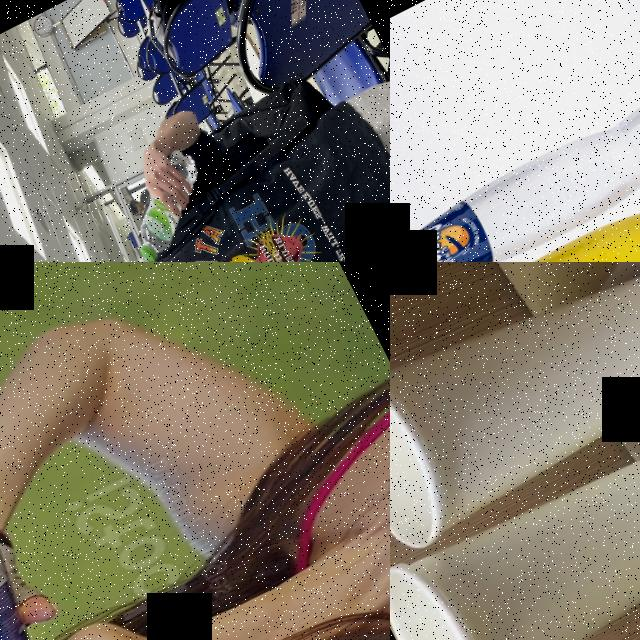bottle: (390, 53, 640, 262), (390, 136, 640, 262), (106, 140, 230, 262)
cup: (390, 262, 640, 559), (390, 366, 640, 640)
